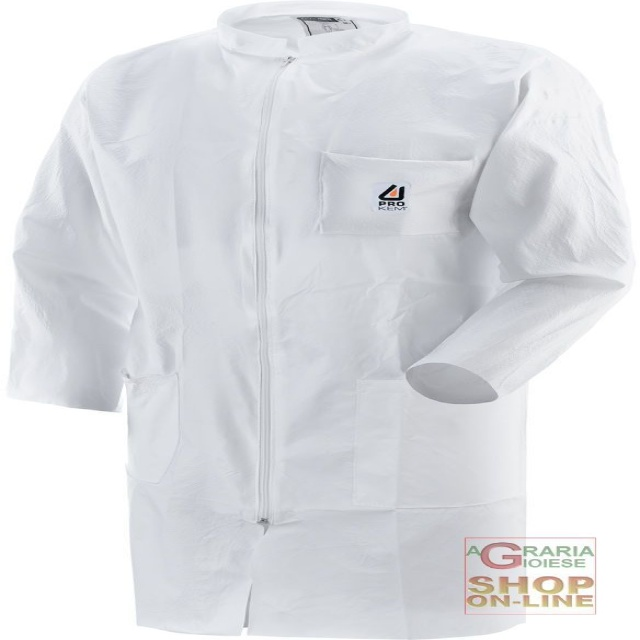Coat: (22, 18, 626, 636)
